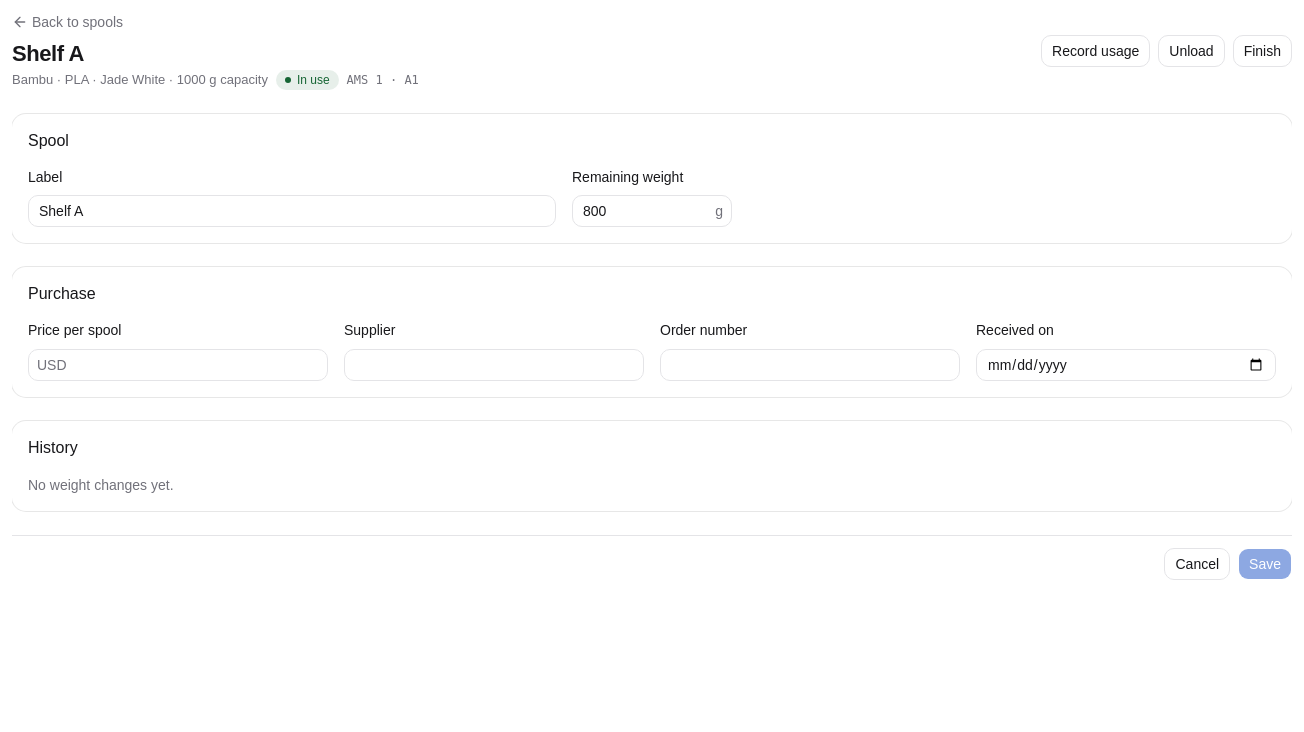
SpoolDetailPage › asks for a reason only once the weight changes, and sends it with the save
The image size is (1304, 732).
expect the heading "Shelf A" is shown: met, box [12, 41, 84, 66]
expect the field labelled "Reason (optional)" is not shown: met
Type " 2" into the field labelled "Label" at (292, 211), box [28, 195, 556, 227]
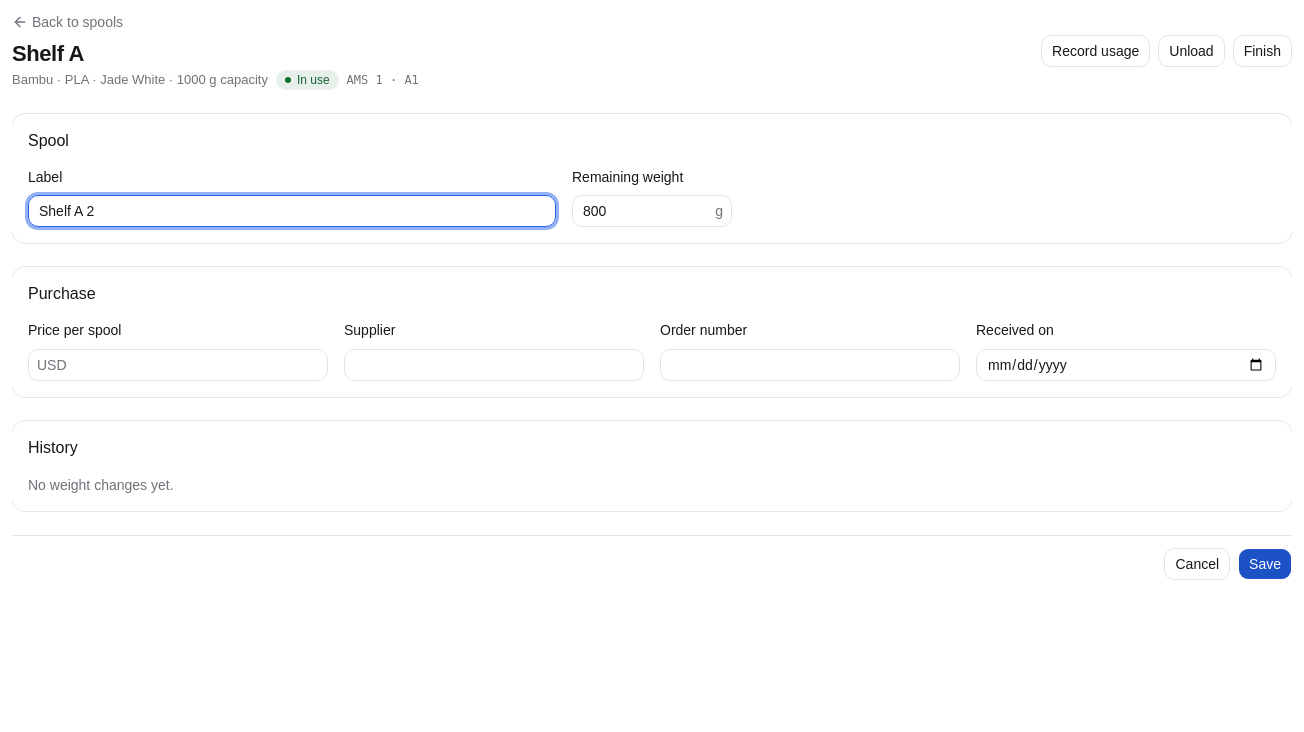
expect the field labelled "Reason (optional)" is not shown: met
Replace the text in the number field labelled "Remaining weight" with "750" at (644, 211), box [573, 195, 715, 227]
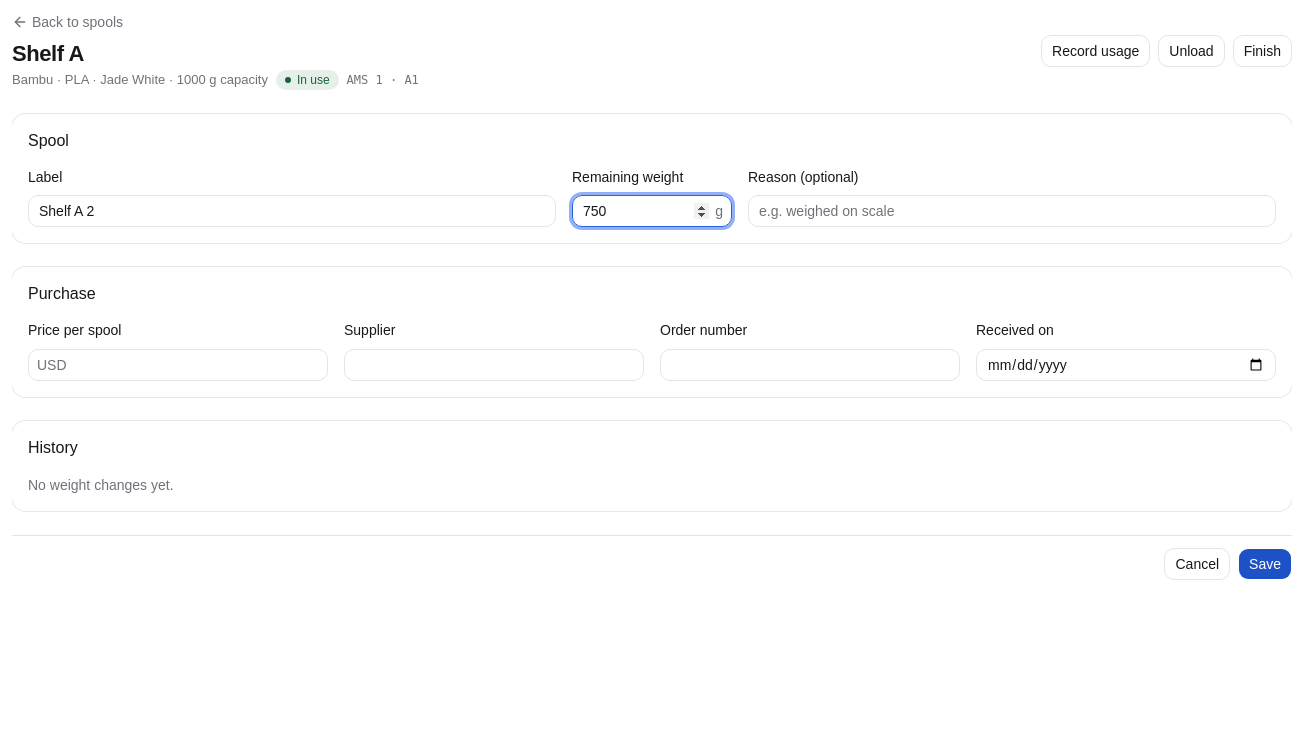
Type "weighed on scale" into the field labelled "Reason (optional)" at (1012, 211), box [748, 195, 1276, 227]
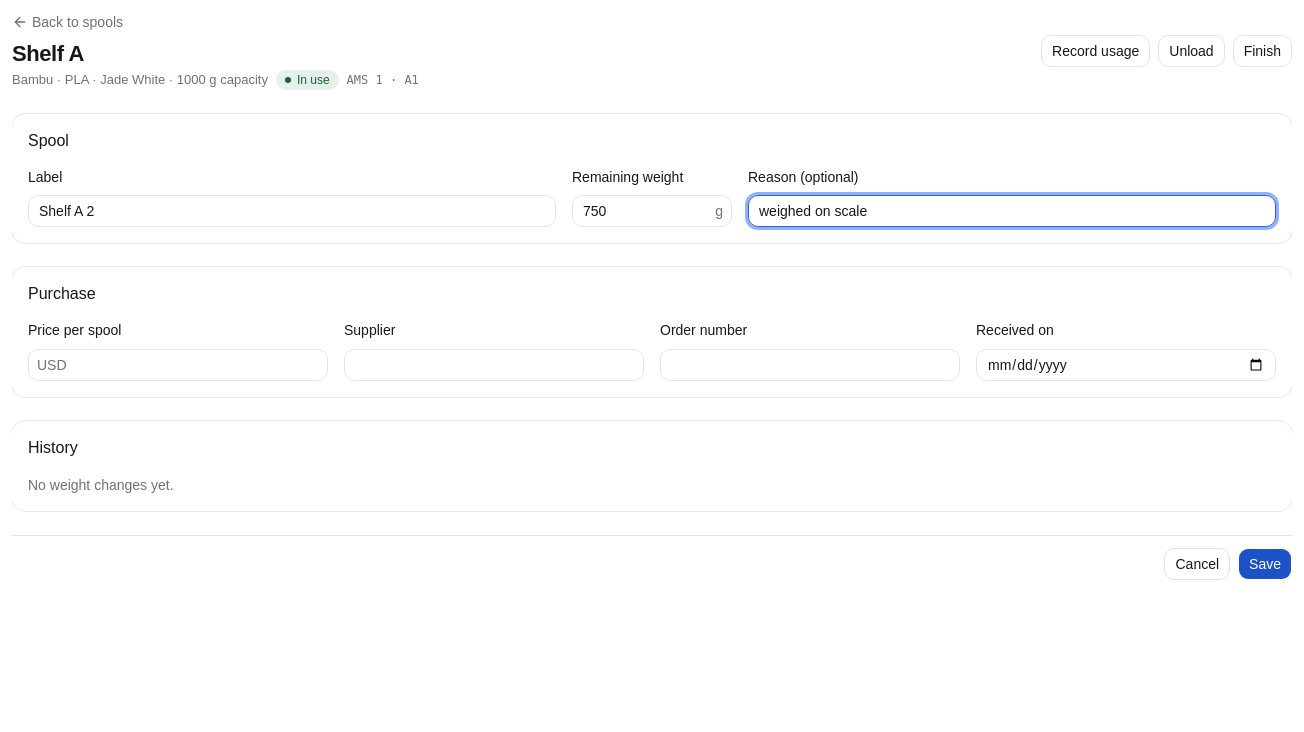
Click the button "Save" at (1265, 564), box [1238, 548, 1292, 580]
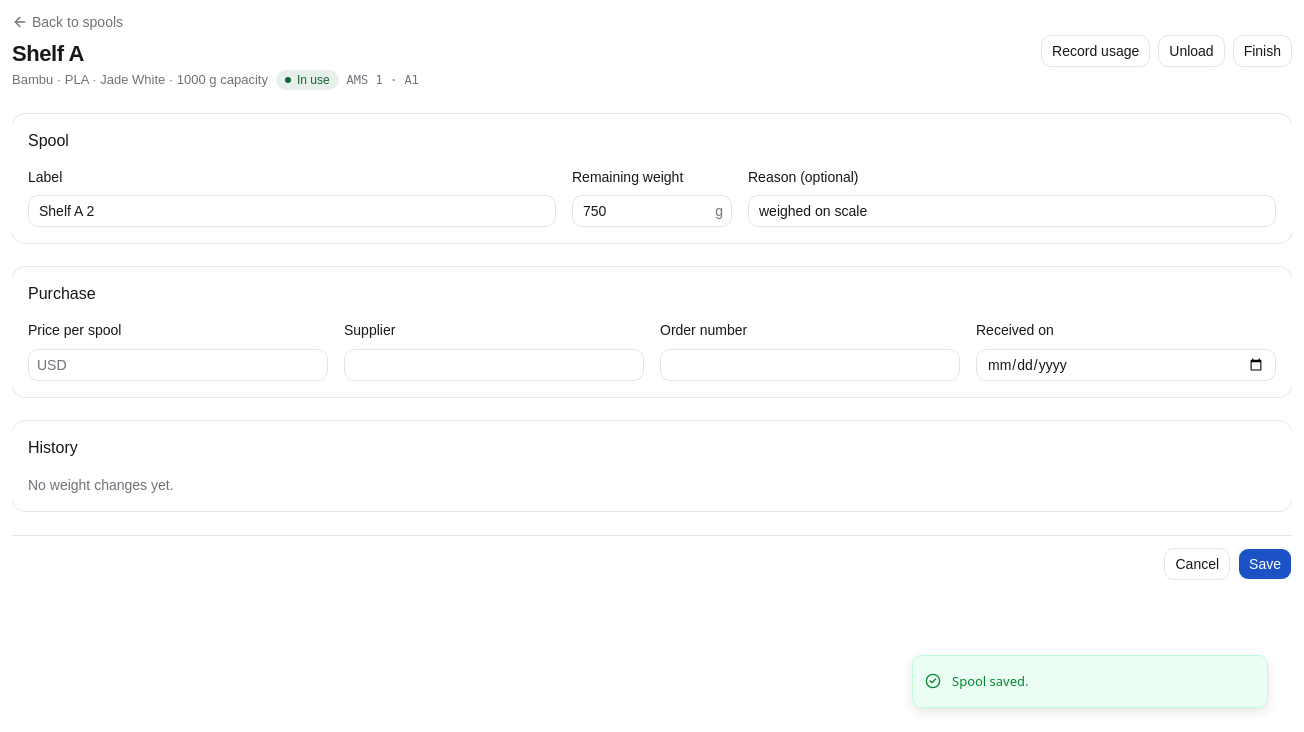
expect the text "Spool saved." is shown: met, box [952, 672, 1028, 691]
